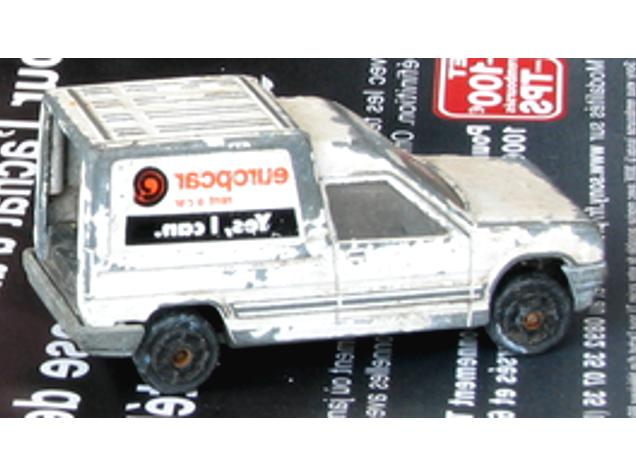toy-car: (22, 73, 610, 396)
